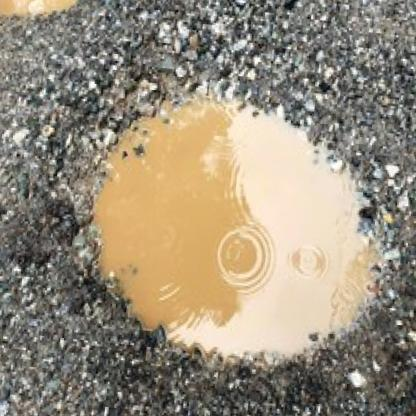pothole: (57, 66, 416, 384)
